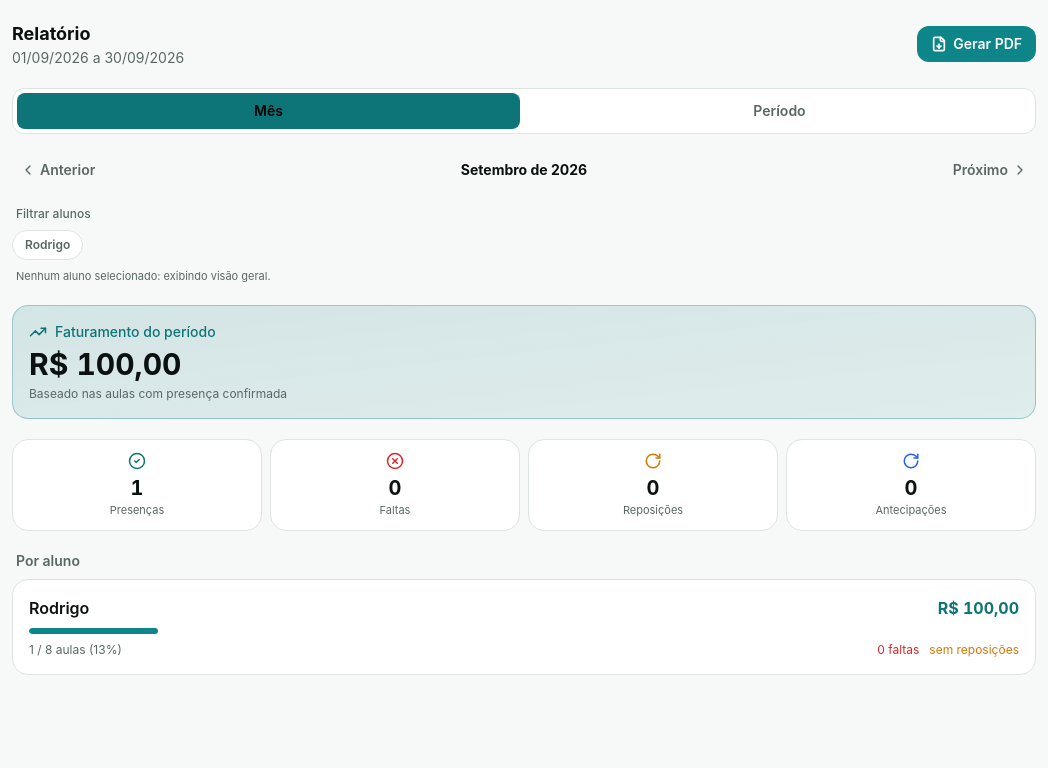
Test case: RelatoriosView — navegação de período (mês anterior) › ao navegar para o mês anterior, exibe dados estritamente daquele intervalo
Navega para Agosto
Click the button "Anterior": (58, 170) [12,154,103,186]
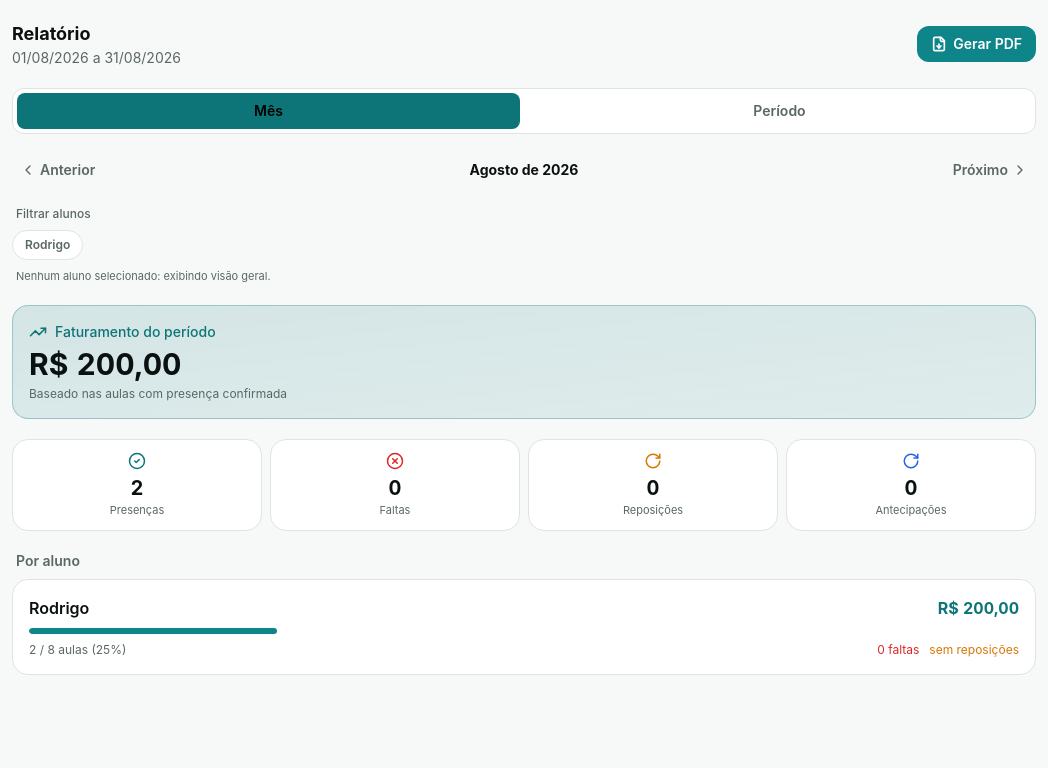
Result: the text "Agosto de 2026" is shown at [470,160,578,180]
